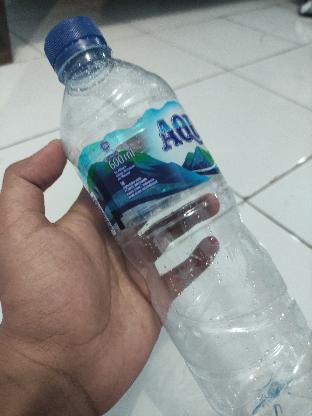Plastic Bottle: (38, 14, 312, 416)
